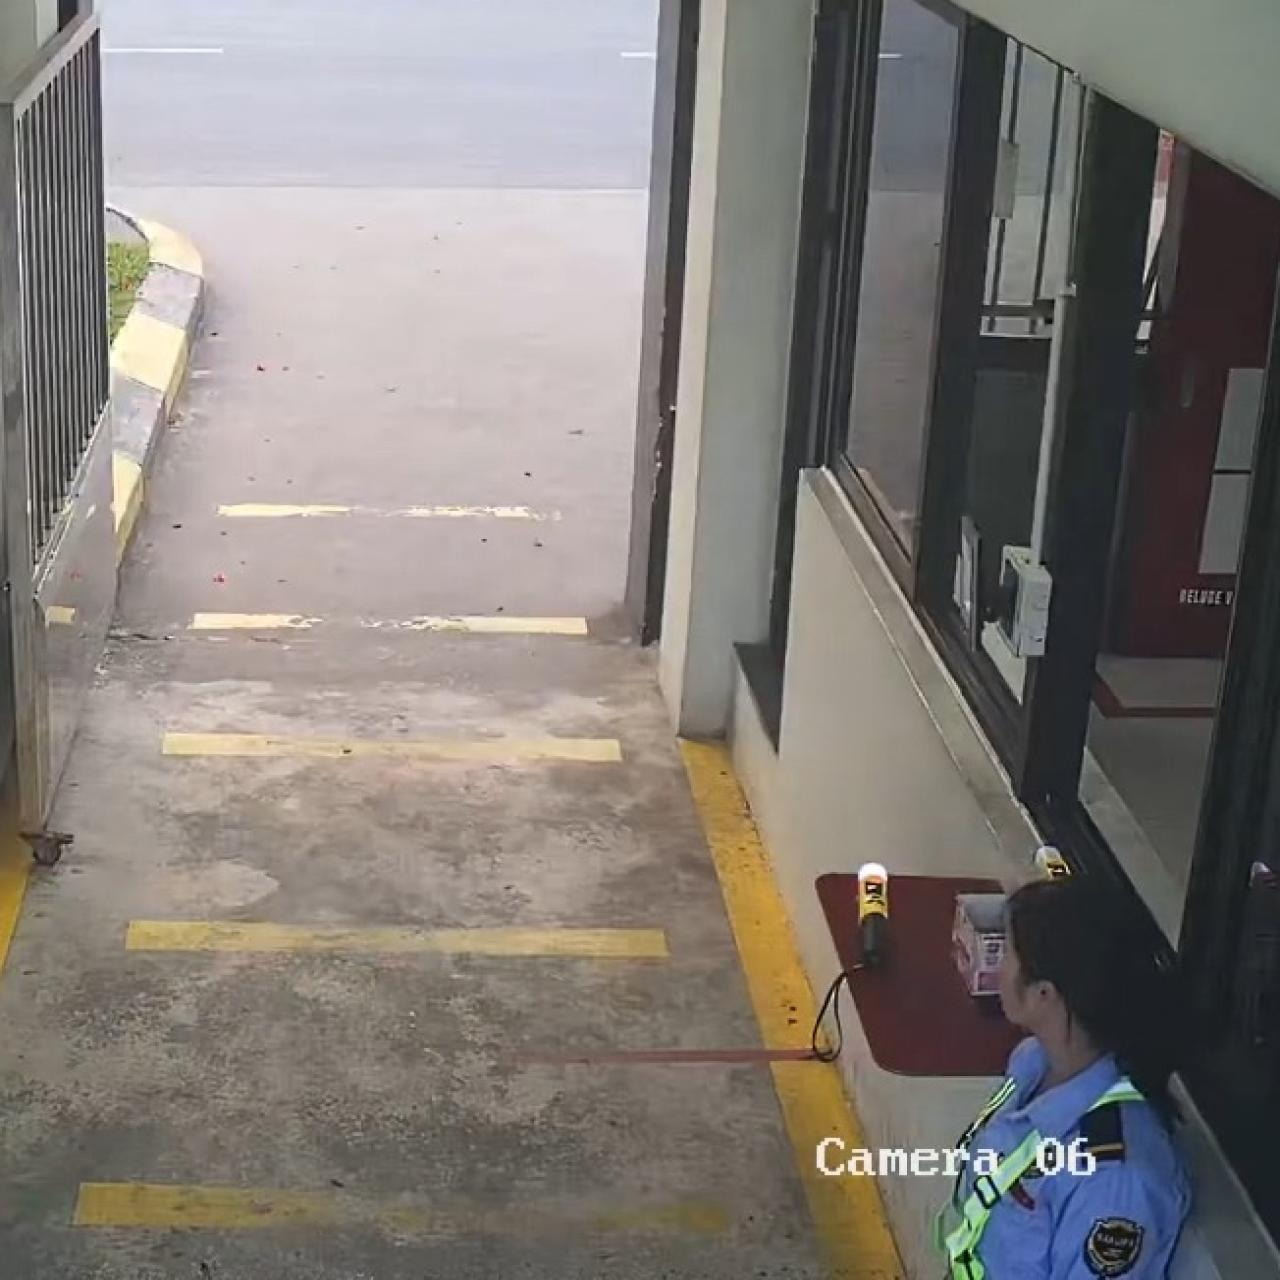breathalyzer: (843, 853, 907, 998), (1022, 831, 1081, 886)
guard: (928, 870, 1196, 1276)
